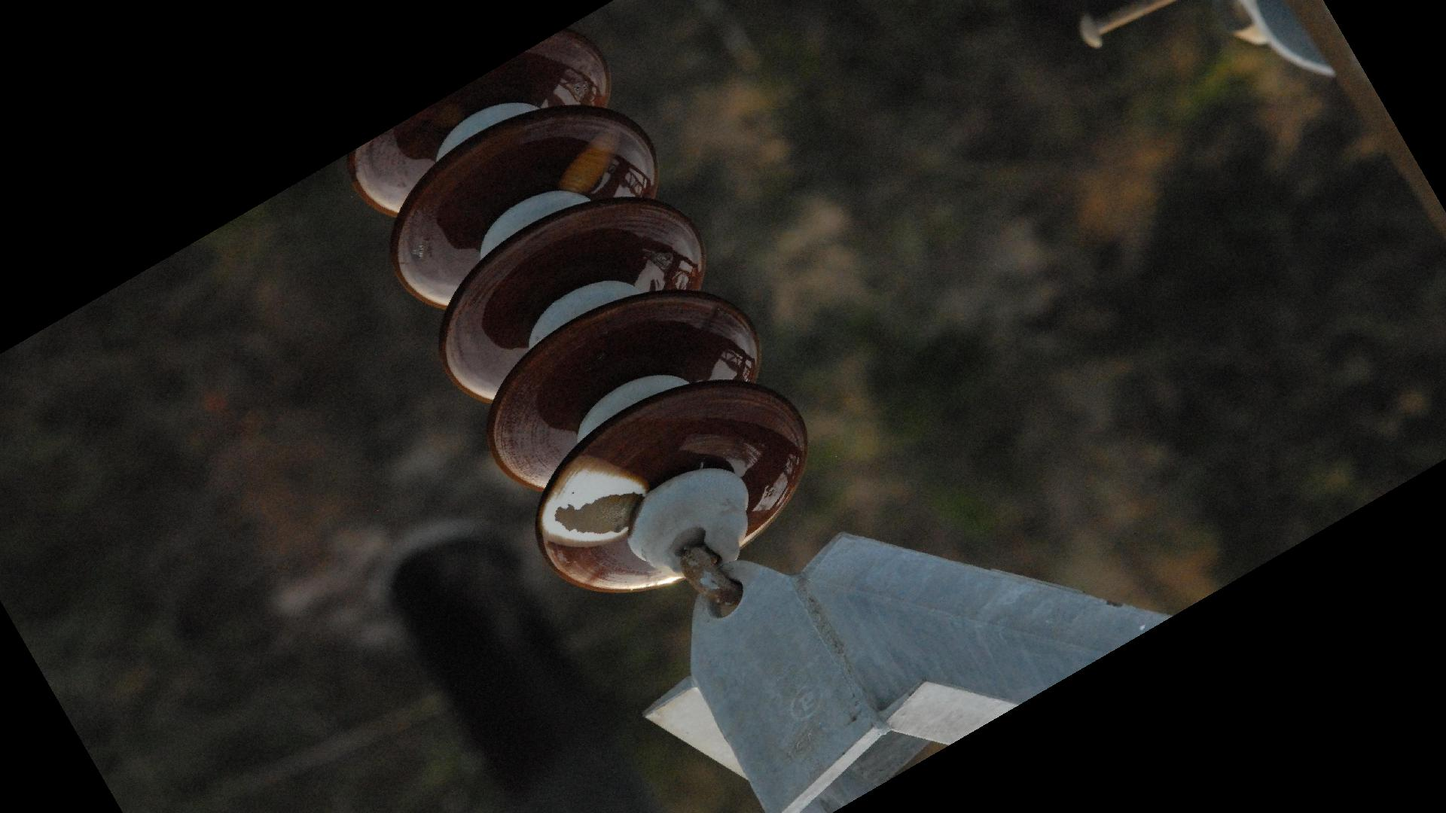insulator: (342, 24, 815, 599)
insulator_flashover: (541, 462, 645, 544), (557, 123, 624, 195)
